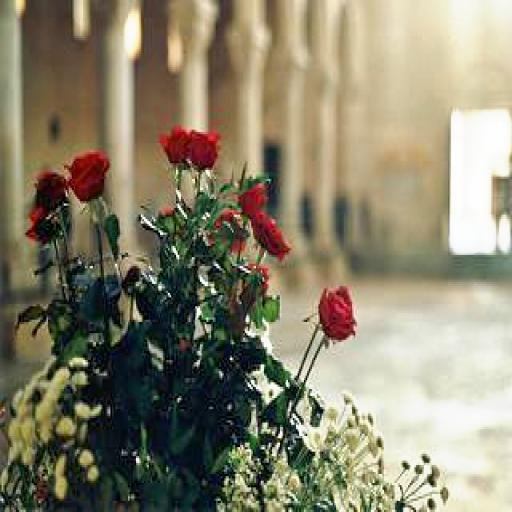rose: (318, 284, 358, 342), (251, 208, 291, 259), (68, 150, 110, 197), (158, 125, 192, 168), (34, 168, 67, 210), (187, 128, 219, 168)
